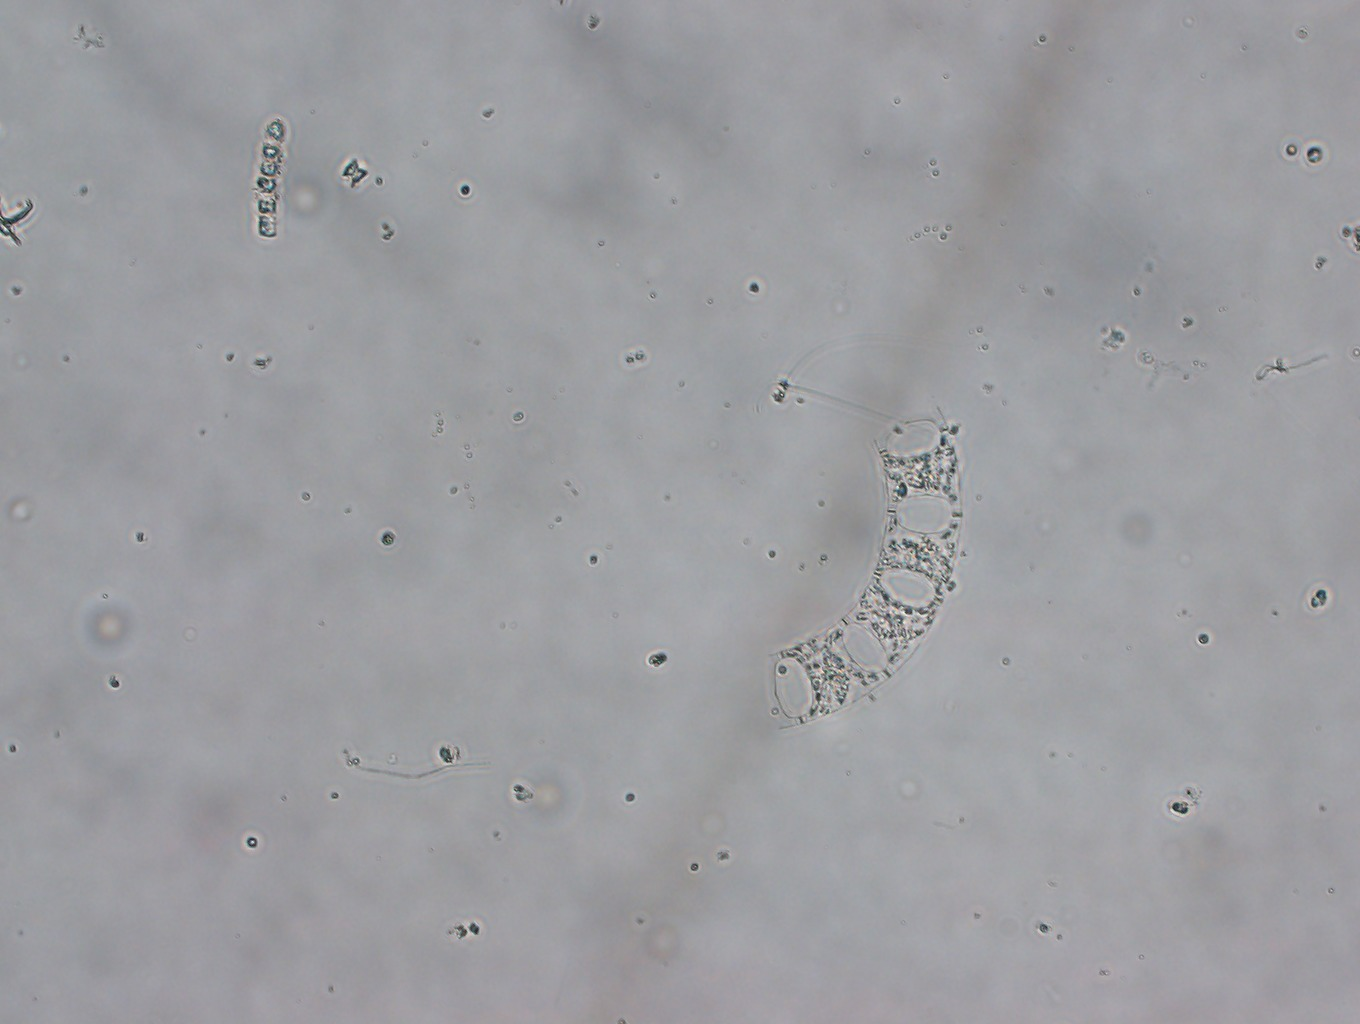eucampia: (747, 393, 969, 735)
skeletonema: (237, 106, 294, 242)
